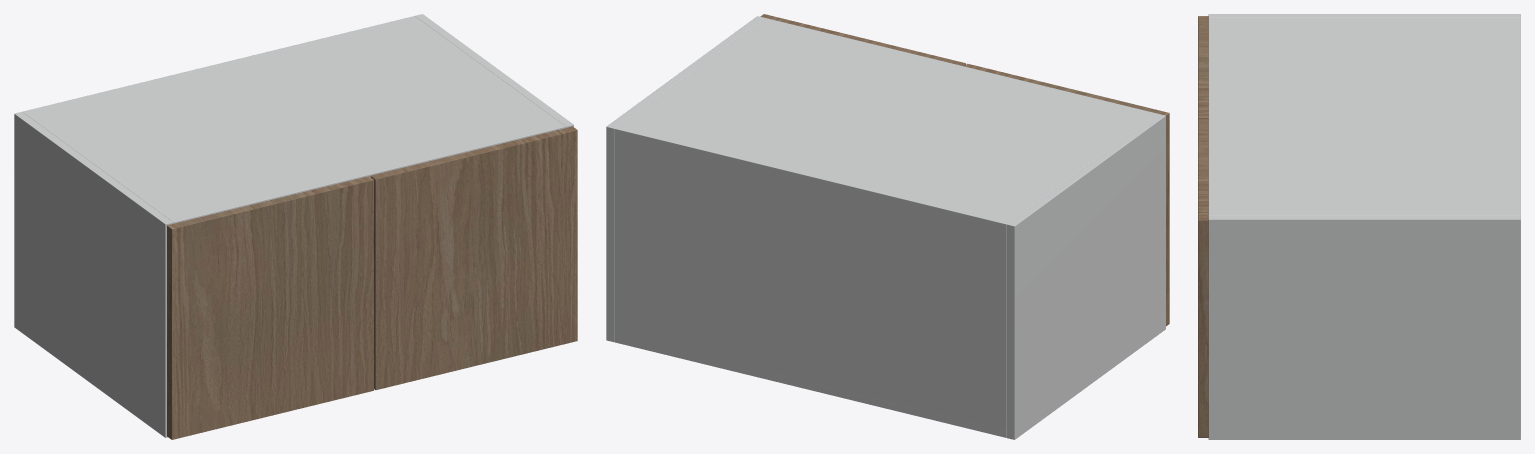
Rendered from oppein-ply-mnw-w361824.glb.
The picture shows the model from 3 angles, left to right: view 1: azimuth 30°, elevation 25°; view 2: azimuth 150°, elevation 25°; view 3: azimuth 270°, elevation 25°; orthographic projection. The views are drawn at different scales.
Visible parts, largest first — view 1: Cabinet top, Door, Door.001, Cabinet side, Cabinet back, Cabinet side.001; view 2: Cabinet back, Cabinet top, Cabinet side, Cabinet side.001, Cabinet bottom, Door, Door.001; view 3: Cabinet side.001, Cabinet top, Door.001, Cabinet back, Cabinet side, Door.
Part boxes in pixels (box(x1,y1,x2,y2)): Cabinet top: box(25, 17, 565, 223); Door: box(167, 176, 373, 439); Door.001: box(370, 126, 577, 390); Cabinet side: box(14, 112, 173, 437); Cabinet back: box(22, 16, 416, 113); Cabinet side.001: box(415, 14, 573, 127); Cabinet back: box(614, 126, 1009, 437); Cabinet top: box(614, 18, 1157, 231); Cabinet side: box(1007, 114, 1165, 439); Cabinet side.001: box(606, 16, 764, 341); Cabinet bottom: box(614, 339, 1006, 437); Door: box(964, 63, 1169, 326); Door.001: box(760, 14, 965, 66); Cabinet side.001: box(1208, 215, 1520, 439); Cabinet top: box(1208, 18, 1520, 215); Door.001: box(1198, 118, 1208, 437); Cabinet back: box(1514, 18, 1520, 215); Cabinet side: box(1208, 14, 1520, 17); Door: box(1198, 16, 1208, 118).
Size of the model in its own units: 0.9144 by 0.4572 by 0.6064.
Materials: 2 (1 with a texture image).
